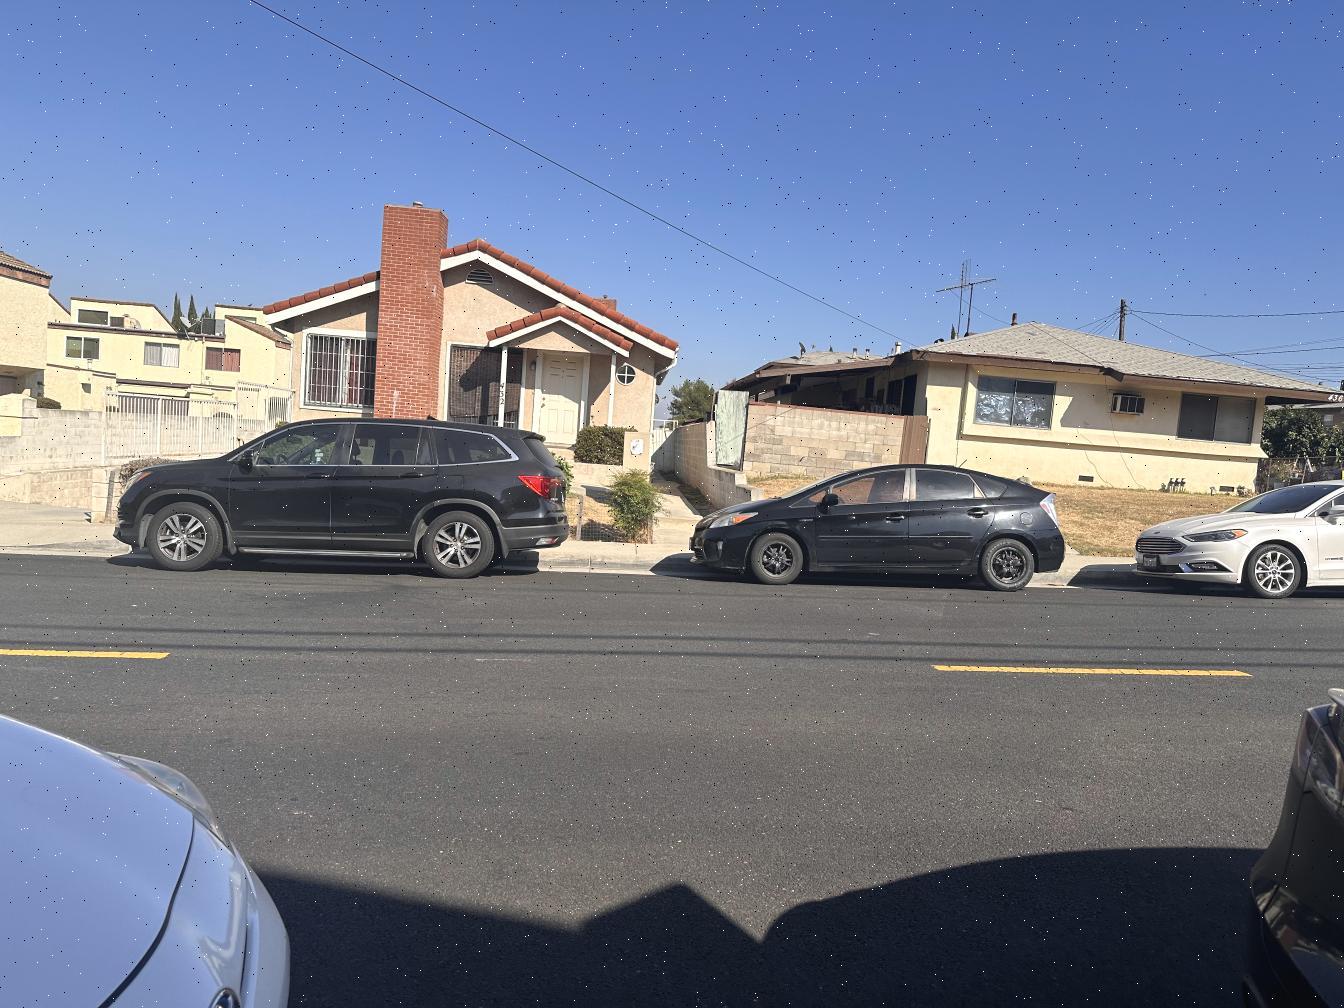curbs-laRr: (566, 543, 682, 577), (1065, 565, 1136, 592)
